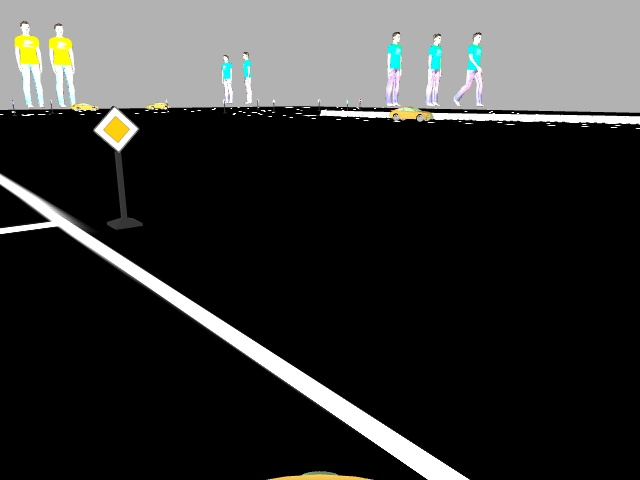Priority: (96, 104, 138, 153)
